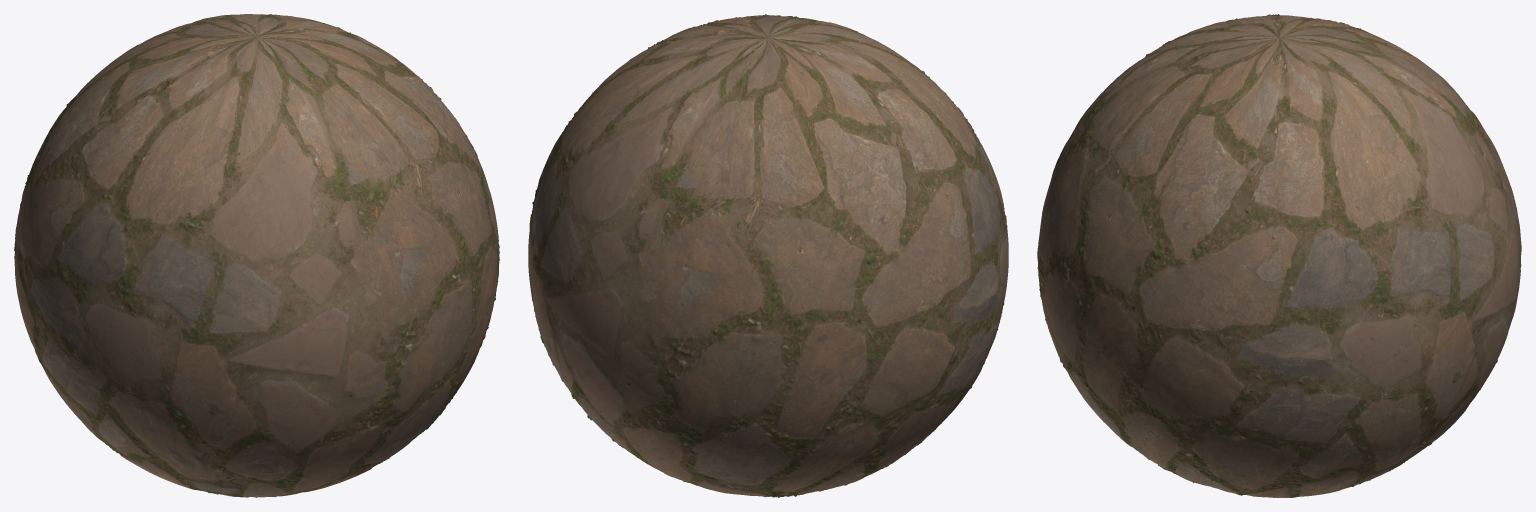
File: grassy_cobblestone_1k.gltf
The picture shows the model from 3 angles, left to right: view 1: azimuth 30°, elevation 25°; view 2: azimuth 150°, elevation 25°; view 3: azimuth 270°, elevation 25°; orthographic projection.
Parts seen in each view (by area): view 1: sphere_gltf; view 2: sphere_gltf; view 3: sphere_gltf.
Part boxes in pixels (x1,y1,x2,y2): sphere_gltf: (14, 14, 499, 497); sphere_gltf: (528, 14, 1008, 497); sphere_gltf: (1037, 14, 1521, 497).
Bounding box in the file's own units: 2 × 2.01 × 2.01.
Materials: 1 (1 with a texture image).
